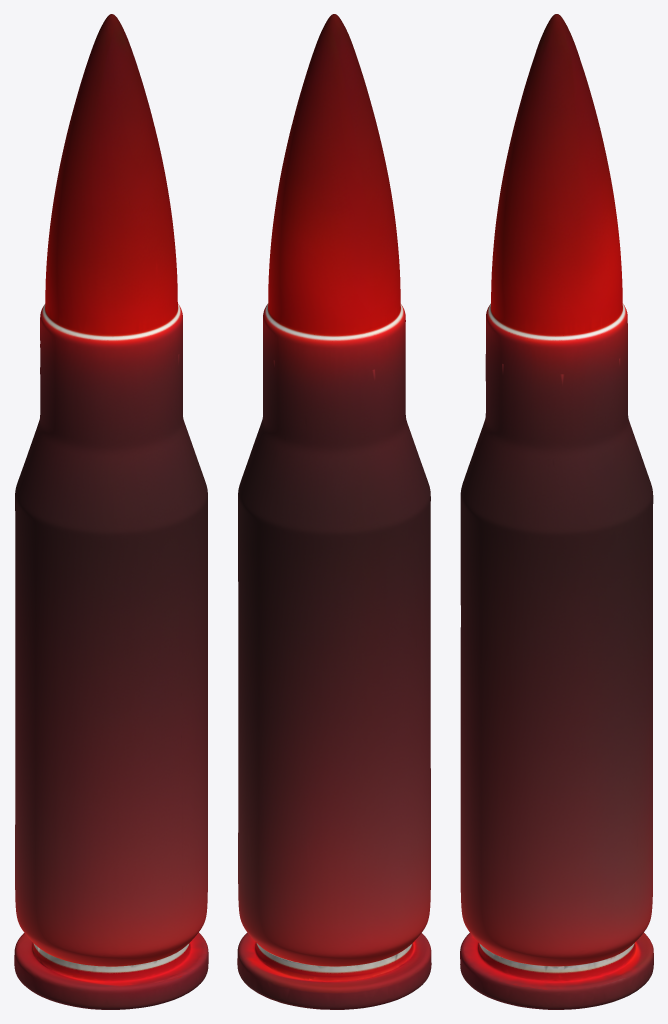
The model's file is 狙击子弹.glb.
The picture shows the model from 3 angles, left to right: view 1: azimuth 30°, elevation 25°; view 2: azimuth 150°, elevation 25°; view 3: azimuth 270°, elevation 25°; orthographic projection.
Parts seen in each view (by area): view 1: node_0; view 2: node_0; view 3: node_0.
Boxes of the visible parts, left/top/right/bottom form: node_0: left=14, top=14, right=208, bottom=1009; node_0: left=237, top=14, right=431, bottom=1009; node_0: left=460, top=14, right=653, bottom=1009.
Size of the model in its own units: 0.2177 by 1.19 by 0.2172.
1 material, 1 textured.
